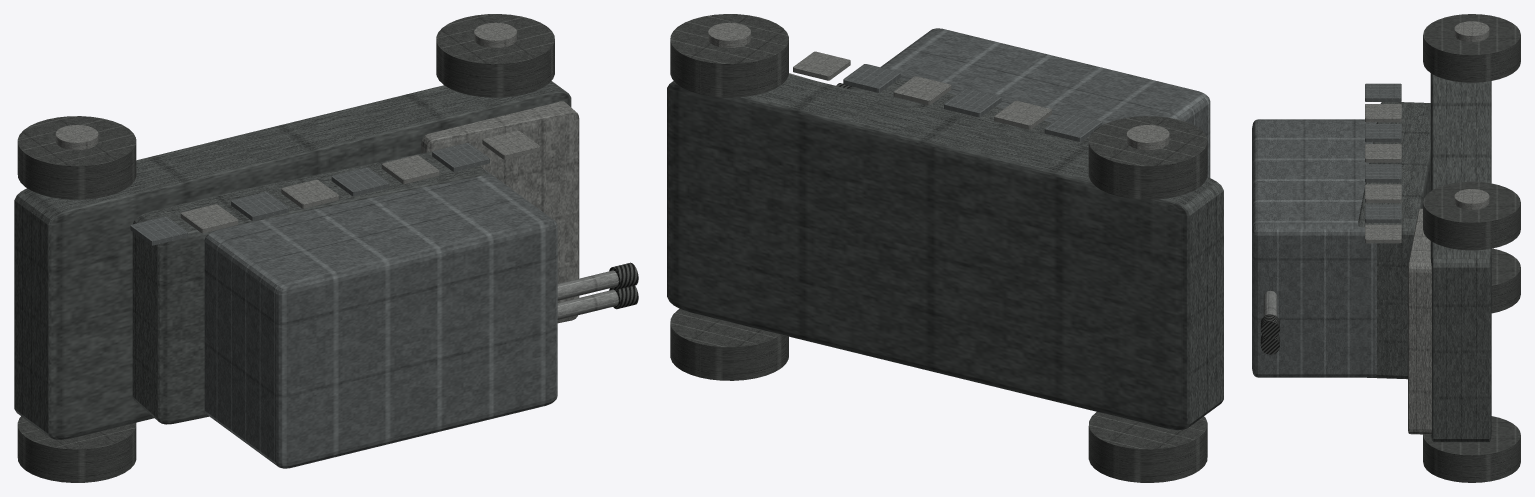
The model's file is c-u06-recon-buggy-lod0.glb.
3 renders of one model, left to right at view 1: azimuth 30°, elevation 25°; view 2: azimuth 150°, elevation 25°; view 3: azimuth 270°, elevation 25°, orthographic. The views are drawn at different scales.
Parts seen in each view (by area): view 1: buggy_cage, chassis_lower, upper_hull, chassis_nose, chassis_wheel_1_0, chassis_wheel_1_1, chassis_wheel_-1_0, service_hatch_5, service_hatch_1, service_hatch_4, service_hatch_7, service_hatch_3 (+7 smaller); view 2: chassis_lower, buggy_cage, chassis_wheel_1_0, chassis_wheel_1_1, chassis_wheel_-1_0, chassis_wheel_-1_1, upper_hull, service_hatch_5, service_hatch_4, service_hatch_3, service_hatch_7, service_hatch_6 (+3 smaller); view 3: buggy_cage, chassis_lower, upper_hull, chassis_wheel_1_1, chassis_wheel_1_0, chassis_nose, chassis_wheel_-1_1, chassis_wheel_-1_0, service_hatch_7, service_hatch_3, service_hatch_4, service_hatch_5 (+9 smaller).
Part boxes in pixels (left/top/right/bottom): buggy_cage: left=204, top=168, right=557, bottom=468; chassis_lower: left=14, top=81, right=571, bottom=439; upper_hull: left=132, top=151, right=488, bottom=424; chassis_nose: left=421, top=101, right=579, bottom=323; chassis_wheel_1_0: left=17, top=116, right=136, bottom=199; chassis_wheel_1_1: left=436, top=14, right=554, bottom=97; chassis_wheel_-1_0: left=17, top=416, right=136, bottom=482; service_hatch_5: left=381, top=155, right=439, bottom=184; service_hatch_1: left=180, top=204, right=238, bottom=233; service_hatch_4: left=331, top=167, right=389, bottom=196; service_hatch_7: left=482, top=130, right=540, bottom=159; service_hatch_3: left=281, top=179, right=338, bottom=208; chassis_lower: left=667, top=74, right=1223, bottom=430; buggy_cage: left=880, top=28, right=1210, bottom=177; chassis_wheel_1_0: left=1088, top=116, right=1207, bottom=199; chassis_wheel_1_1: left=670, top=14, right=788, bottom=97; chassis_wheel_-1_0: left=1088, top=412, right=1207, bottom=482; chassis_wheel_-1_1: left=670, top=309, right=788, bottom=380; upper_hull: left=849, top=78, right=1090, bottom=147; service_hatch_5: left=893, top=76, right=951, bottom=105; service_hatch_4: left=944, top=88, right=1001, bottom=117; service_hatch_3: left=994, top=100, right=1051, bottom=129; service_hatch_7: left=793, top=51, right=850, bottom=80; service_hatch_6: left=843, top=64, right=900, bottom=92; buggy_cage: left=1252, top=119, right=1376, bottom=377; chassis_lower: left=1430, top=73, right=1491, bottom=442; upper_hull: left=1358, top=102, right=1430, bottom=379; chassis_wheel_1_1: left=1423, top=181, right=1520, bottom=250; chassis_wheel_1_0: left=1423, top=14, right=1520, bottom=82; chassis_nose: left=1408, top=208, right=1431, bottom=434; chassis_wheel_-1_1: left=1423, top=416, right=1520, bottom=482; chassis_wheel_-1_0: left=1491, top=248, right=1520, bottom=313; service_hatch_7: left=1365, top=224, right=1401, bottom=243; service_hatch_3: left=1365, top=144, right=1401, bottom=162; service_hatch_4: left=1365, top=164, right=1401, bottom=182; service_hatch_5: left=1365, top=184, right=1401, bottom=202.
Size of what is drawn, in the model's own units: 3.98 by 2.41 by 2.16.
Materials: 7 (7 with a texture image).
